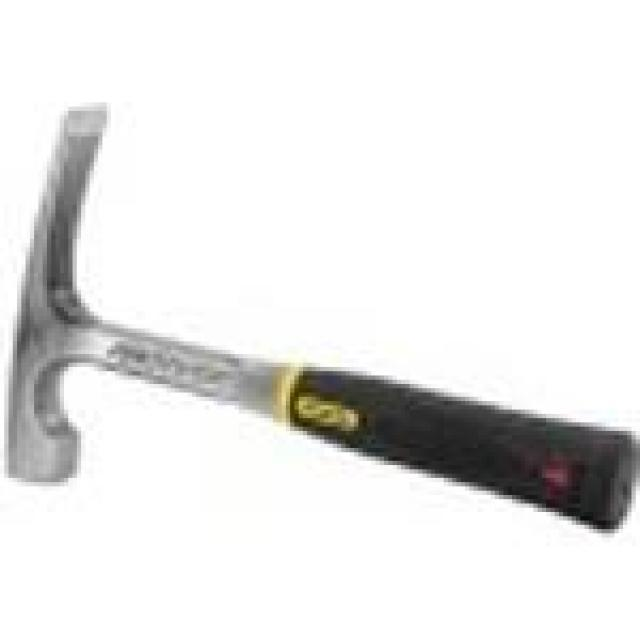hammer: (0, 89, 634, 552)
